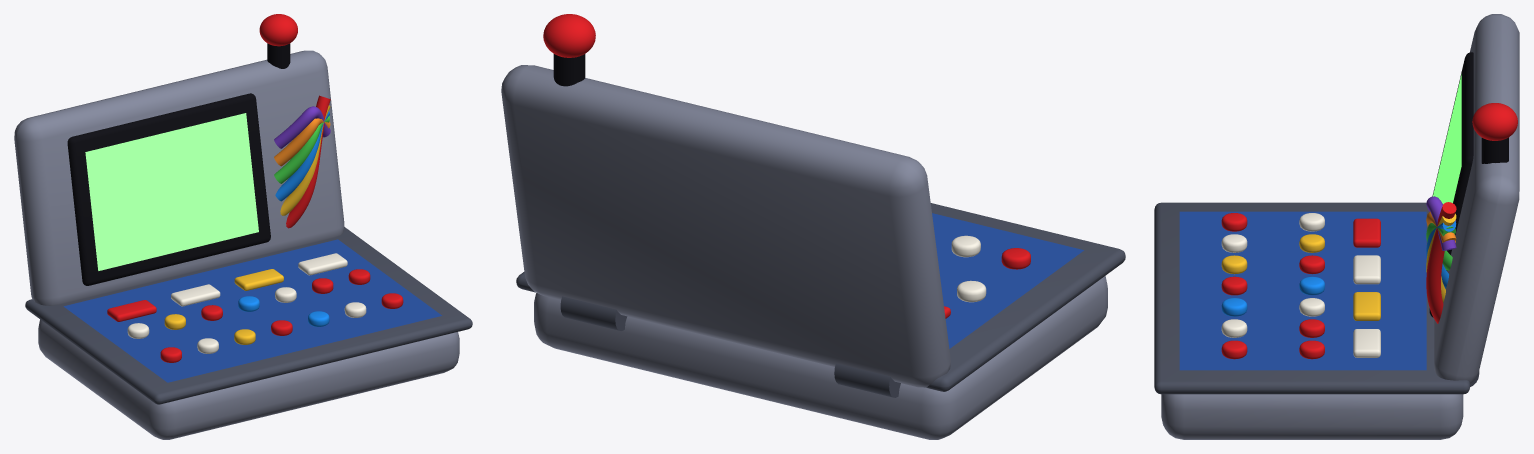
Rendered from bomba2.glb.
The picture shows the model from 3 angles, left to right: view 1: azimuth 30°, elevation 25°; view 2: azimuth 150°, elevation 25°; view 3: azimuth 270°, elevation 25°; orthographic projection. The views are drawn at different scales.
Parts seen in each view (by area): view 1: bomba_tampa, painel, lcd, bomba_base, bomba_aro, bomba_tampa_moldura, bomba_pino_botao, bomba_fio0, bomba_fio5, bomba_fio3, bomba_fio2, bomba_fio4 (+6 smaller); view 2: bomba_tampa, bomba_base, bomba_aro, painel, bomba_pino_botao, bomba_dobradica-1, bomba_dobradica1, bomba_pino; view 3: painel, bomba_tampa, bomba_aro, bomba_base, bomba_tampa_moldura, lcd, bomba_fio0, bomba_pino_botao, deco_tecla0, deco_tecla1, deco_tecla2, deco_tecla3 (+16 smaller).
Part boxes in pixels (left/top/right/bottom): bomba_tampa: left=14, top=50, right=344, bottom=305; painel: left=63, top=239, right=441, bottom=382; lcd: left=85, top=113, right=258, bottom=270; bomba_base: left=38, top=319, right=459, bottom=439; bomba_aro: left=25, top=227, right=472, bottom=404; bomba_tampa_moldura: left=67, top=93, right=270, bottom=285; bomba_pino_botao: left=259, top=14, right=297, bottom=46; bomba_fio0: left=286, top=95, right=330, bottom=228; bomba_fio5: left=274, top=106, right=330, bottom=148; bomba_fio3: left=274, top=116, right=329, bottom=183; bomba_fio2: left=275, top=111, right=329, bottom=201; bomba_fio4: left=274, top=118, right=330, bottom=166; bomba_tampa: left=501, top=65, right=950, bottom=387; bomba_base: left=534, top=276, right=1107, bottom=439; bomba_aro: left=516, top=203, right=1125, bottom=391; painel: left=932, top=213, right=1083, bottom=348; bomba_pino_botao: left=543, top=14, right=595, bottom=57; bomba_dobradica-1: left=834, top=363, right=900, bottom=397; bomba_dobradica1: left=560, top=296, right=627, bottom=330; bomba_pino: left=553, top=54, right=585, bottom=86; painel: left=1179, top=211, right=1426, bottom=370; bomba_tampa: left=1434, top=14, right=1519, bottom=383; bomba_aro: left=1154, top=202, right=1469, bottom=394; bomba_base: left=1161, top=394, right=1463, bottom=439; bomba_tampa_moldura: left=1429, top=52, right=1473, bottom=317; lcd: left=1433, top=74, right=1461, bottom=204; bomba_fio0: left=1426, top=202, right=1456, bottom=323; bomba_pino_botao: left=1472, top=103, right=1517, bottom=140; deco_tecla0: left=1353, top=218, right=1380, bottom=247; deco_tecla1: left=1353, top=255, right=1380, bottom=284; deco_tecla2: left=1353, top=292, right=1380, bottom=320; deco_tecla3: left=1353, top=329, right=1380, bottom=357.
Bounding box in the file's own units: 0.95 × 0.76 × 0.7981.
